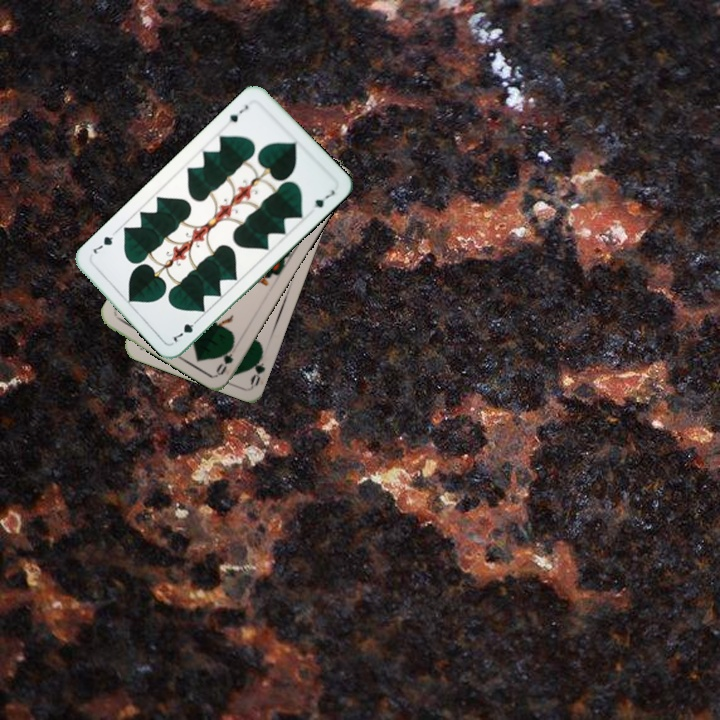G7: (168, 314, 202, 345), (225, 101, 251, 125)
GO: (212, 338, 237, 377), (246, 347, 268, 389)
